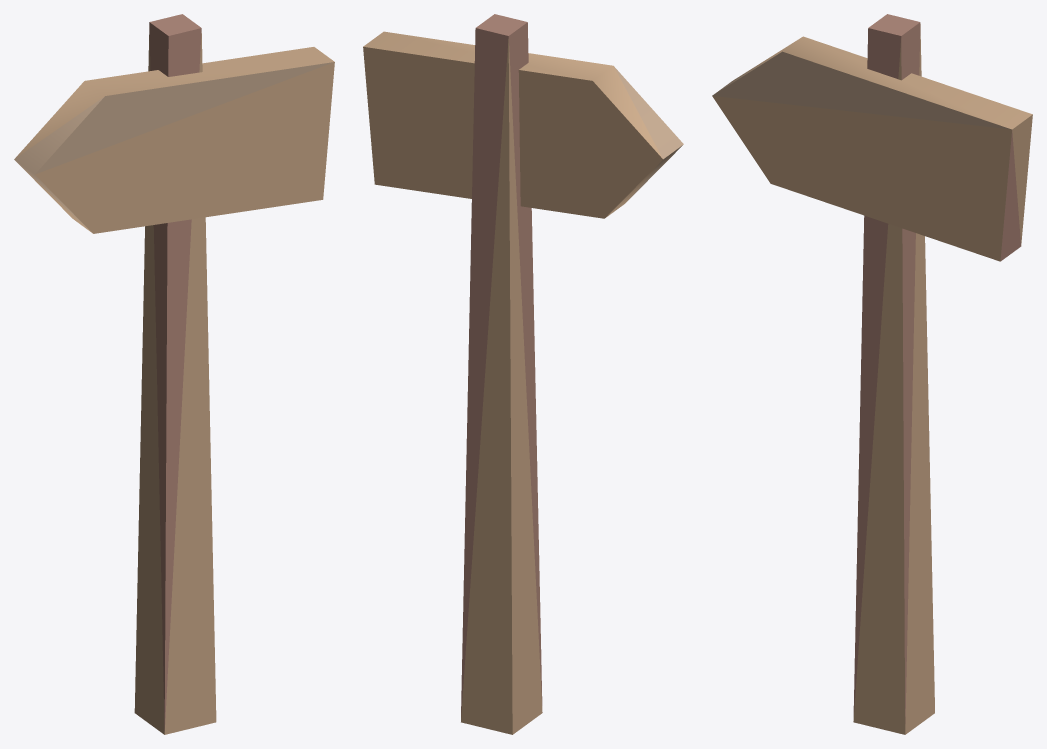
3 views of the same model, side by side, from view 1: azimuth 30°, elevation 25°; view 2: azimuth 150°, elevation 25°; view 3: azimuth 330°, elevation 25° (orthographic).
Visible parts, largest first — view 1: model; view 2: model; view 3: model.
Part boxes in pixels (box(x1,y1,x2,y2)): model: box(14, 14, 334, 734); model: box(363, 14, 683, 734); model: box(712, 14, 1032, 734).
Bounding box in the file's own units: 0.5216 × 1.15 × 0.1074.
